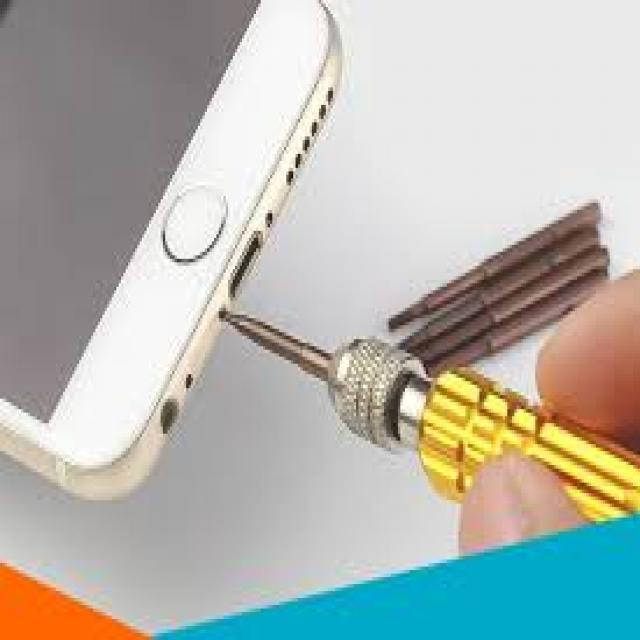screwdriver: (214, 299, 640, 544)
